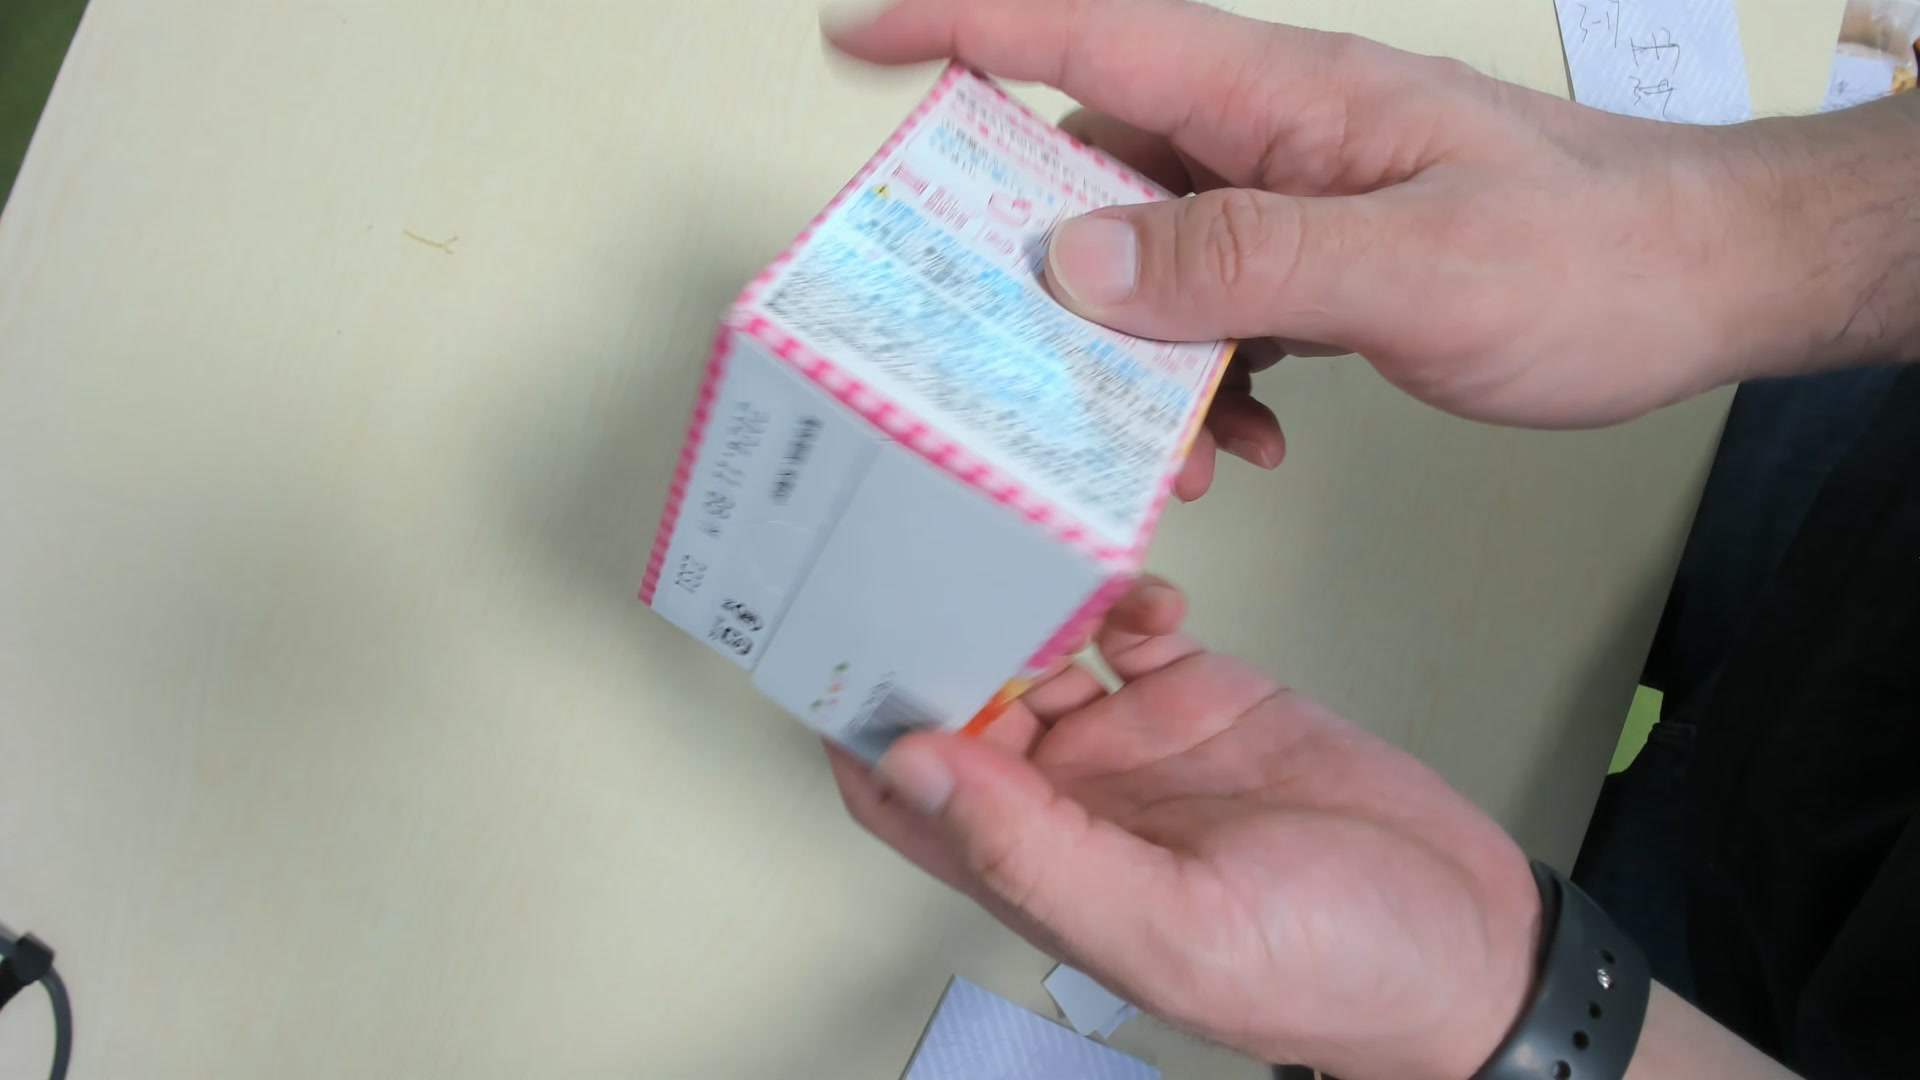InstantMeals_0-99g_NonHalal_NonHealthy: (634, 58, 1265, 769)
